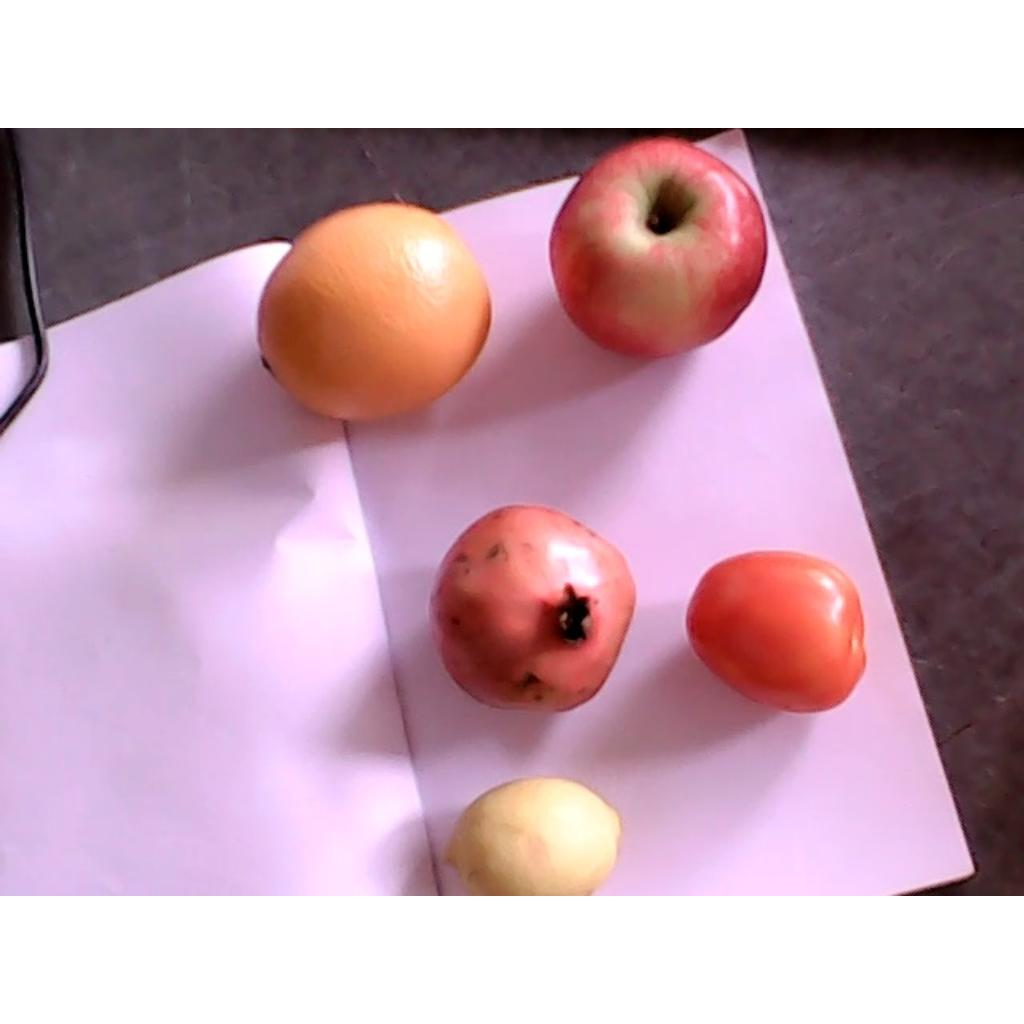apple: (550, 139, 766, 359)
lemon: (441, 780, 621, 894)
orange: (260, 202, 491, 422)
pomegranate: (428, 505, 636, 711)
tomato: (685, 551, 866, 710)
